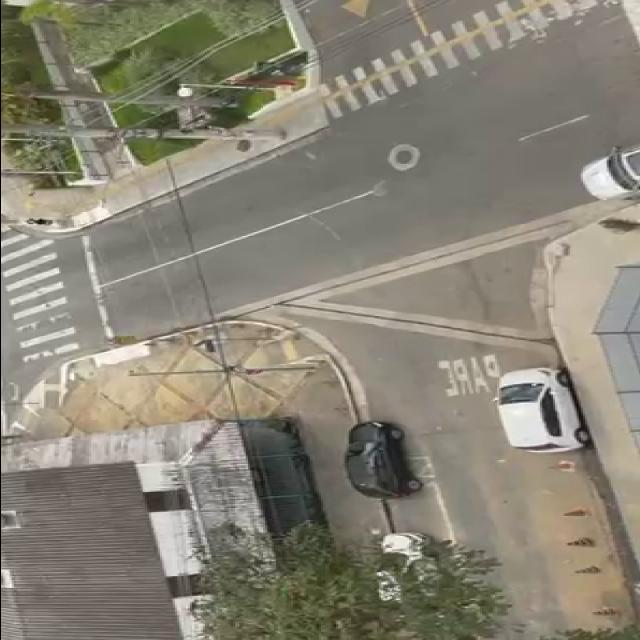car: (488, 370, 596, 455), (333, 416, 428, 502), (574, 141, 640, 203)
